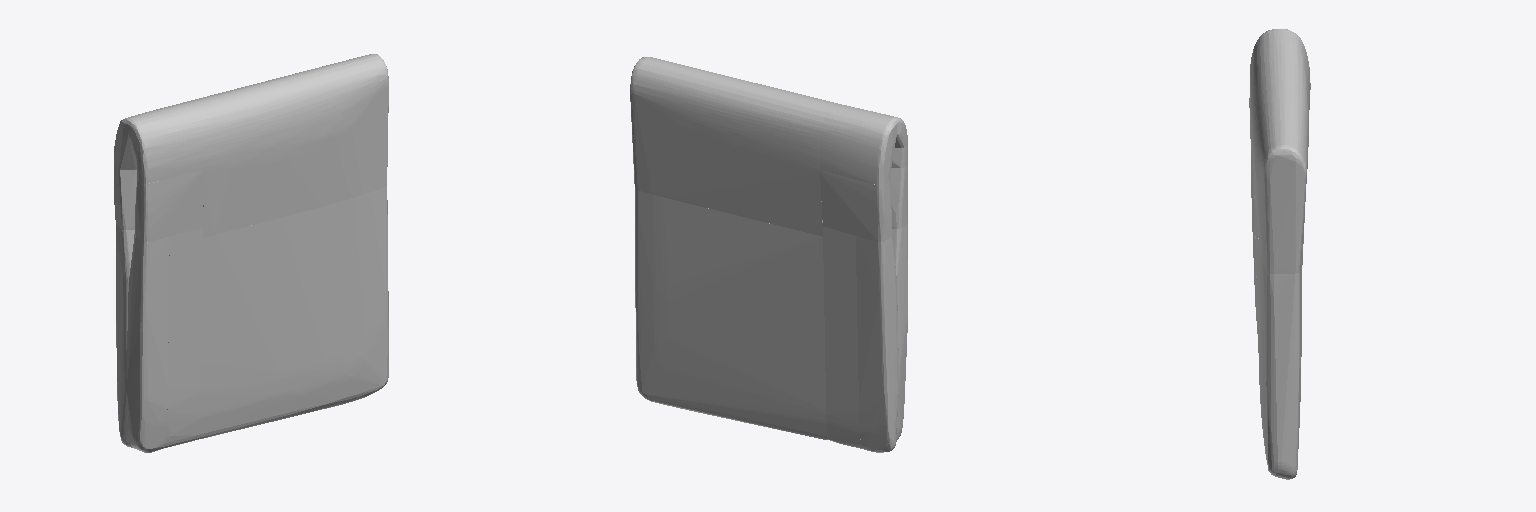
The model's file is coacd_collision.obj.
3 views of the same model, side by side, from view 1: azimuth 30°, elevation 25°; view 2: azimuth 150°, elevation 25°; view 3: azimuth 270°, elevation 25° (orthographic).
Parts seen in each view (by area): view 1: geometry_1, geometry_0, geometry_6, geometry_2, geometry_5, geometry_7, geometry_9, geometry_8, geometry_3, geometry_4; view 2: geometry_1, geometry_0, geometry_9, geometry_2, geometry_4, geometry_3, geometry_6, geometry_5; view 3: geometry_0, geometry_1, geometry_4, geometry_7.
Part boxes in pixels (bbox=[...]): geometry_1: bbox=[197, 186, 388, 439]; geometry_0: bbox=[183, 54, 388, 237]; geometry_6: bbox=[127, 236, 169, 452]; geometry_2: bbox=[163, 228, 202, 448]; geometry_5: bbox=[134, 170, 203, 242]; geometry_7: bbox=[128, 106, 203, 162]; geometry_9: bbox=[116, 225, 134, 448]; geometry_8: bbox=[137, 149, 203, 183]; geometry_3: bbox=[114, 166, 136, 229]; geometry_4: bbox=[114, 103, 189, 169]; geometry_1: bbox=[635, 189, 827, 439]; geometry_0: bbox=[630, 57, 837, 236]; geometry_9: bbox=[856, 236, 898, 452]; geometry_2: bbox=[823, 226, 861, 448]; geometry_4: bbox=[820, 105, 896, 184]; geometry_3: bbox=[820, 170, 891, 241]; geometry_6: bbox=[892, 223, 907, 441]; geometry_5: bbox=[889, 165, 907, 228]; geometry_0: bbox=[1251, 57, 1308, 273]; geometry_1: bbox=[1254, 189, 1301, 479]; geometry_4: bbox=[1279, 29, 1309, 97]; geometry_7: bbox=[1251, 29, 1278, 89].
Bounding box in the file's own units: 98.07 × 122 × 19.85.